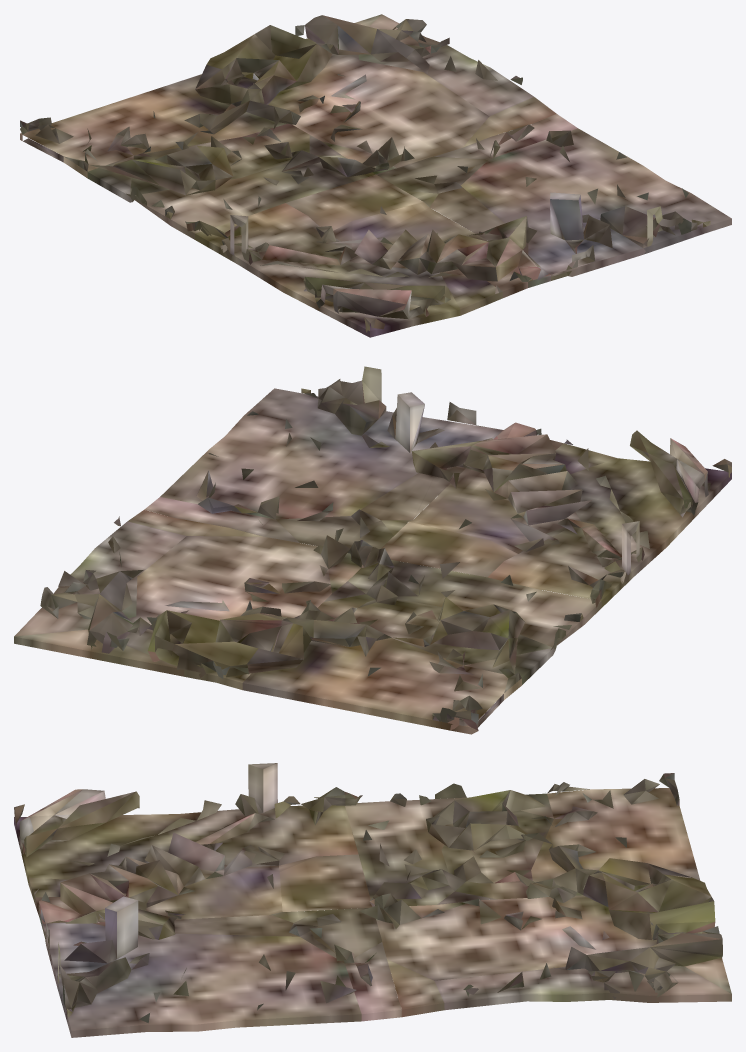
The picture shows the model from 3 angles, top to bottom: view 1: azimuth 30°, elevation 25°; view 2: azimuth 150°, elevation 25°; view 3: azimuth 270°, elevation 25°; orthographic projection. The views are drawn at different scales.
Visible parts, largest first — view 1: Mesh_0; view 2: Mesh_0; view 3: Mesh_0.
Boxes of the visible parts, left/top/right/bottom form: Mesh_0: left=20, top=14, right=731, bottom=337; Mesh_0: left=14, top=366, right=731, bottom=734; Mesh_0: left=14, top=763, right=731, bottom=1037.
Bounding box in the file's own units: 540 × 61.62 × 659.
1 material, 1 textured.
